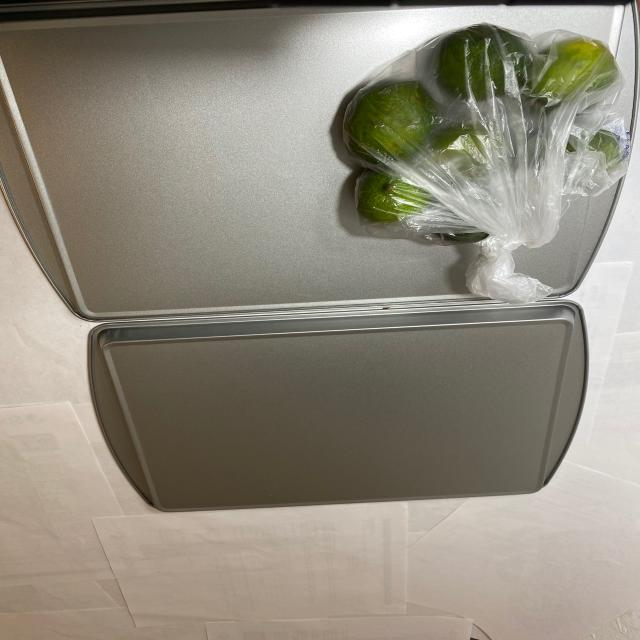lemon: (330, 22, 638, 254)
